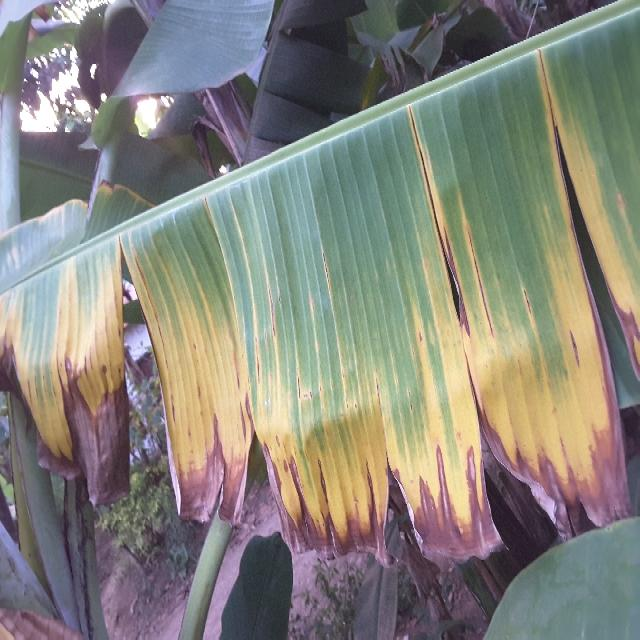Cordana: (0, 110, 640, 530)
